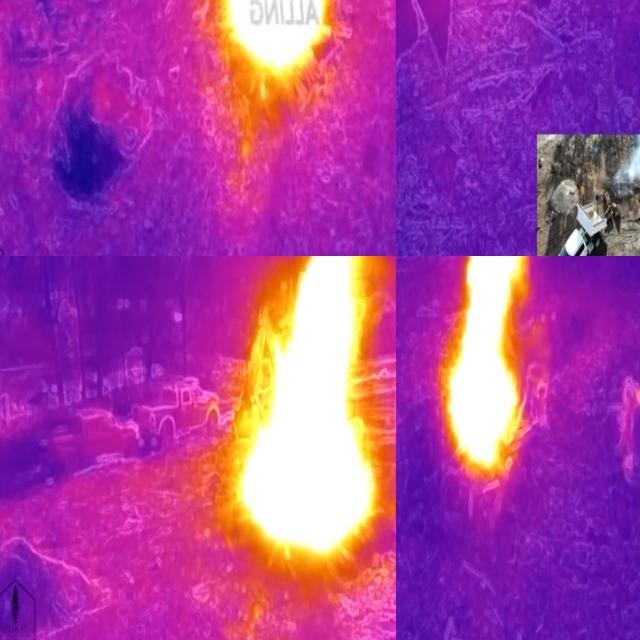fire: (237, 257, 377, 564), (440, 257, 533, 478), (223, 1, 331, 79)
